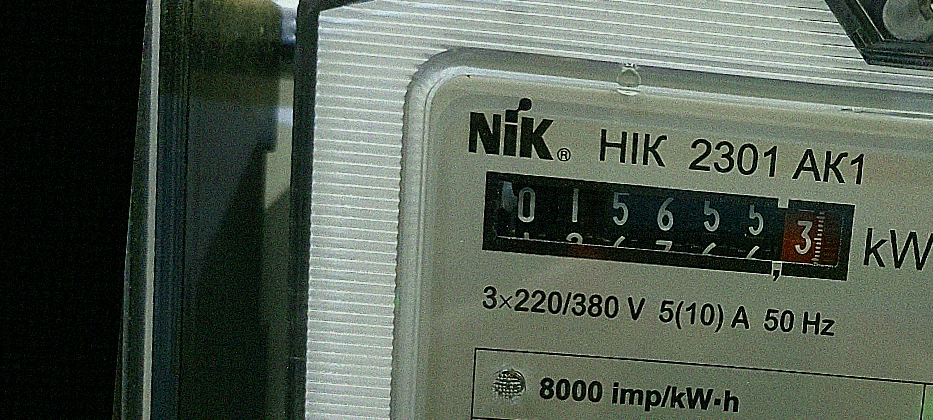0: (511, 182, 539, 225)
1: (563, 185, 585, 225)
3: (791, 218, 813, 255)
5: (605, 190, 632, 227), (698, 200, 723, 233), (745, 203, 766, 237)
6: (652, 195, 678, 232)
screen: (464, 154, 869, 297)
